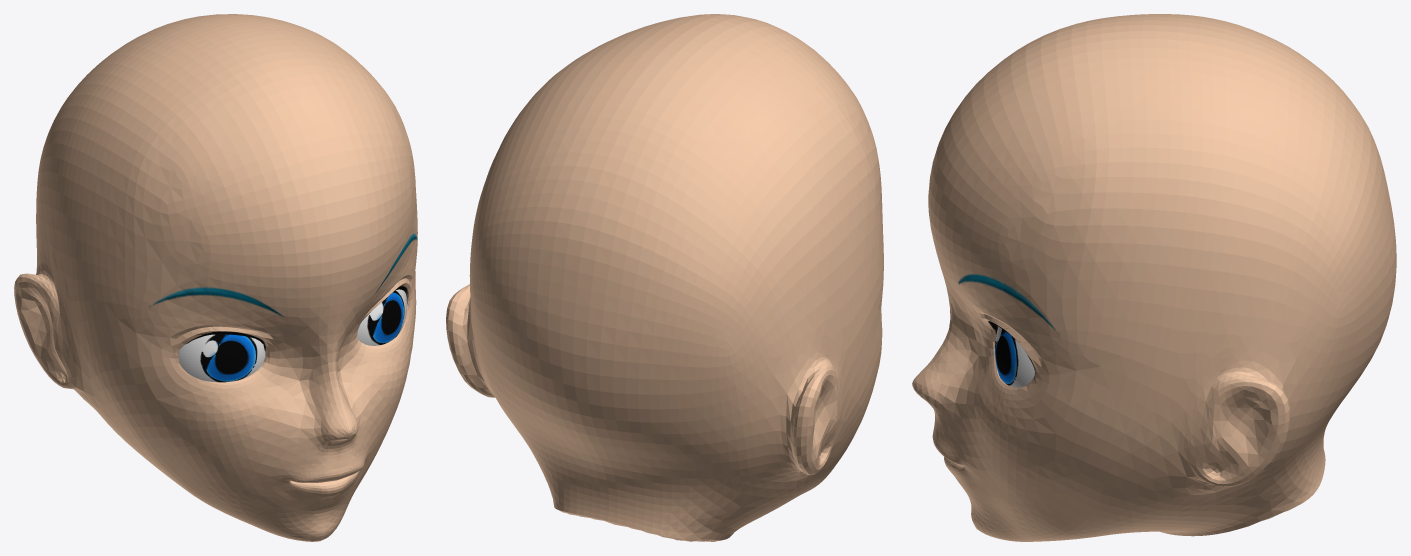
The model's file is Character Head Model.obj.
3 views of the same model, side by side, from view 1: azimuth 30°, elevation 25°; view 2: azimuth 150°, elevation 25°; view 3: azimuth 270°, elevation 25° (orthographic). The views are drawn at different scales.
Visible parts, largest first — view 1: Head, Eyes_Right_Eye_Ball, Eyes_Left_Eye_Ball; view 2: Head; view 3: Head, Eyes_Left_Eye_Ball.
Part boxes in pixels (left/top/right/bottom): Head: left=14, top=14, right=417, bottom=541; Eyes_Right_Eye_Ball: left=178, top=334, right=265, bottom=382; Eyes_Left_Eye_Ball: left=357, top=289, right=406, bottom=345; Head: left=446, top=14, right=883, bottom=541; Head: left=912, top=14, right=1396, bottom=541; Eyes_Left_Eye_Ball: left=995, top=326, right=1034, bottom=387.
Bounding box in the file's own units: 1 × 1.27 × 1.12.
3 materials, 3 textured.
